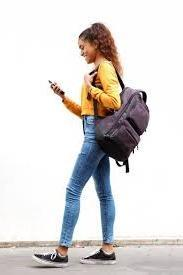Human: (44, 12, 145, 275)
